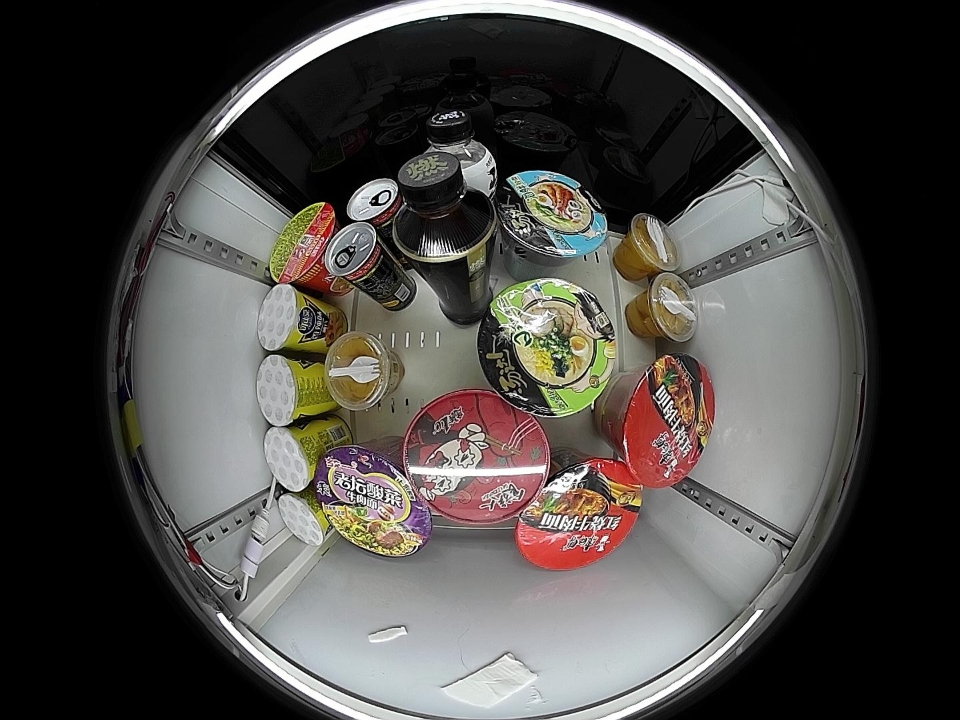heweidao3: (269, 201, 336, 286)
hongshaoniurou: (515, 457, 642, 569), (612, 353, 716, 488)
kebike: (256, 354, 316, 426), (256, 284, 313, 352), (263, 424, 320, 491), (276, 488, 332, 547)
laotansuancai: (316, 446, 432, 558)
rancha-1: (396, 153, 496, 262)
suanlafen: (402, 389, 550, 526)
tangdaren: (477, 278, 618, 418)
tangdaren3: (497, 170, 607, 265)
xianguolao: (324, 331, 400, 411), (639, 274, 698, 342), (622, 212, 681, 275)
yezhi: (325, 221, 391, 288), (345, 177, 406, 231)
yuanqishui: (423, 106, 496, 186)
